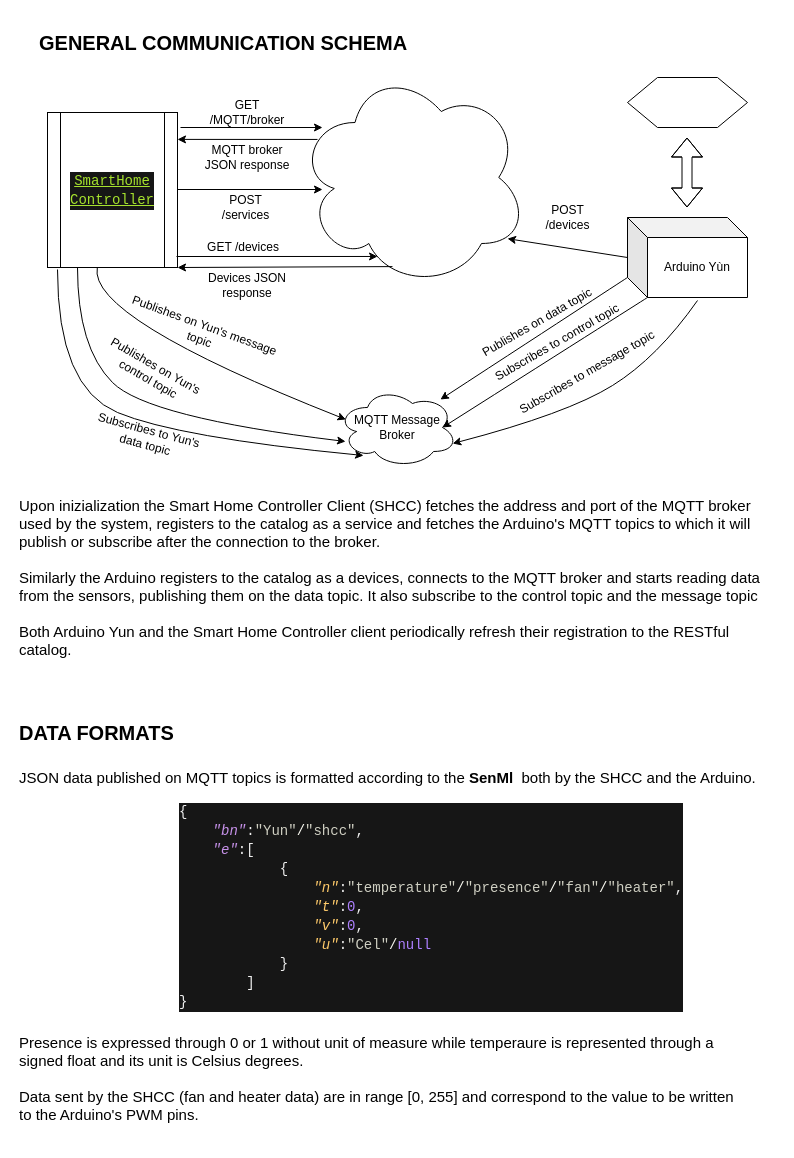
Image size: 794x1158. Some labels were removed from this diagram. The centre of each missing label's shape, as x and y in pixels:
"RESTfulCatalog exposed on localhost:8080 via cherrypy" goes at (x=412, y=177).
"Sensors and actuators" goes at (x=687, y=102).
